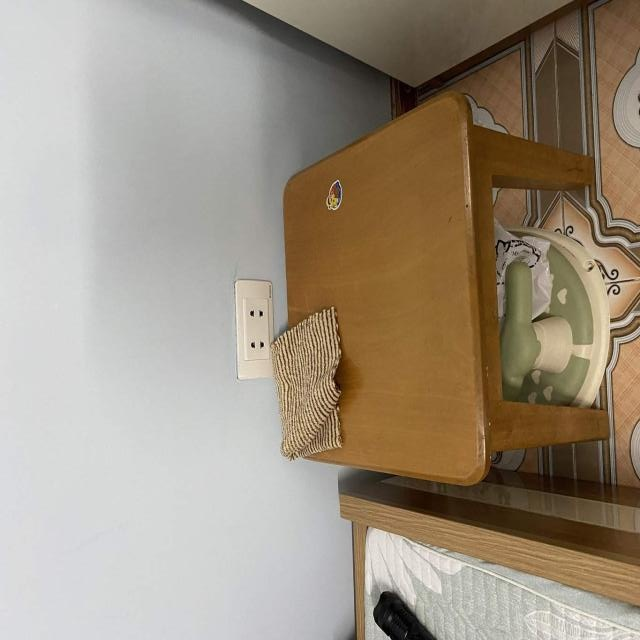outlet: (234, 280, 274, 380)
